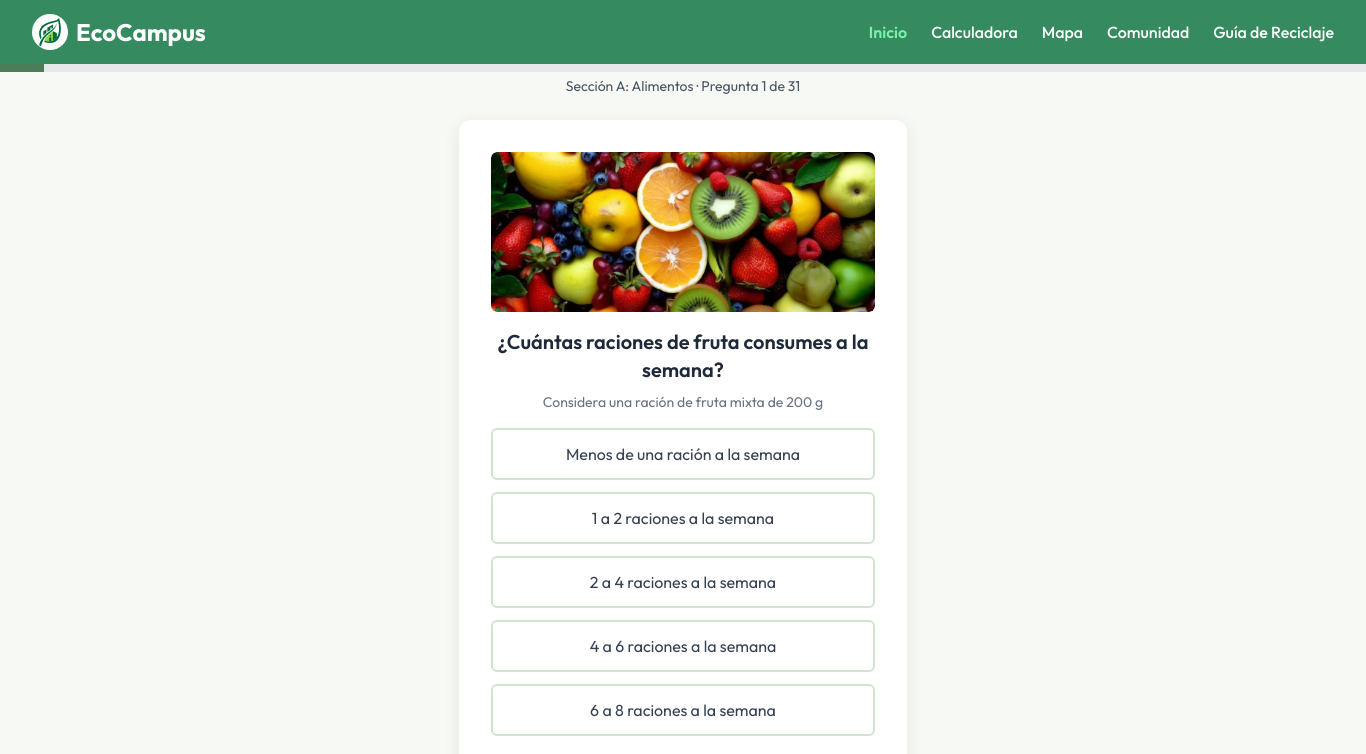
Test: Calculadora - persistencia en localStorage › modal de confirmacion de Borrar respuestas › Cancelar cierra sin borrar y devuelve el foco al disparador
Click the button "1 a 2 raciones a la semana": (683, 518) [491,492,875,544]
(page scrolled)
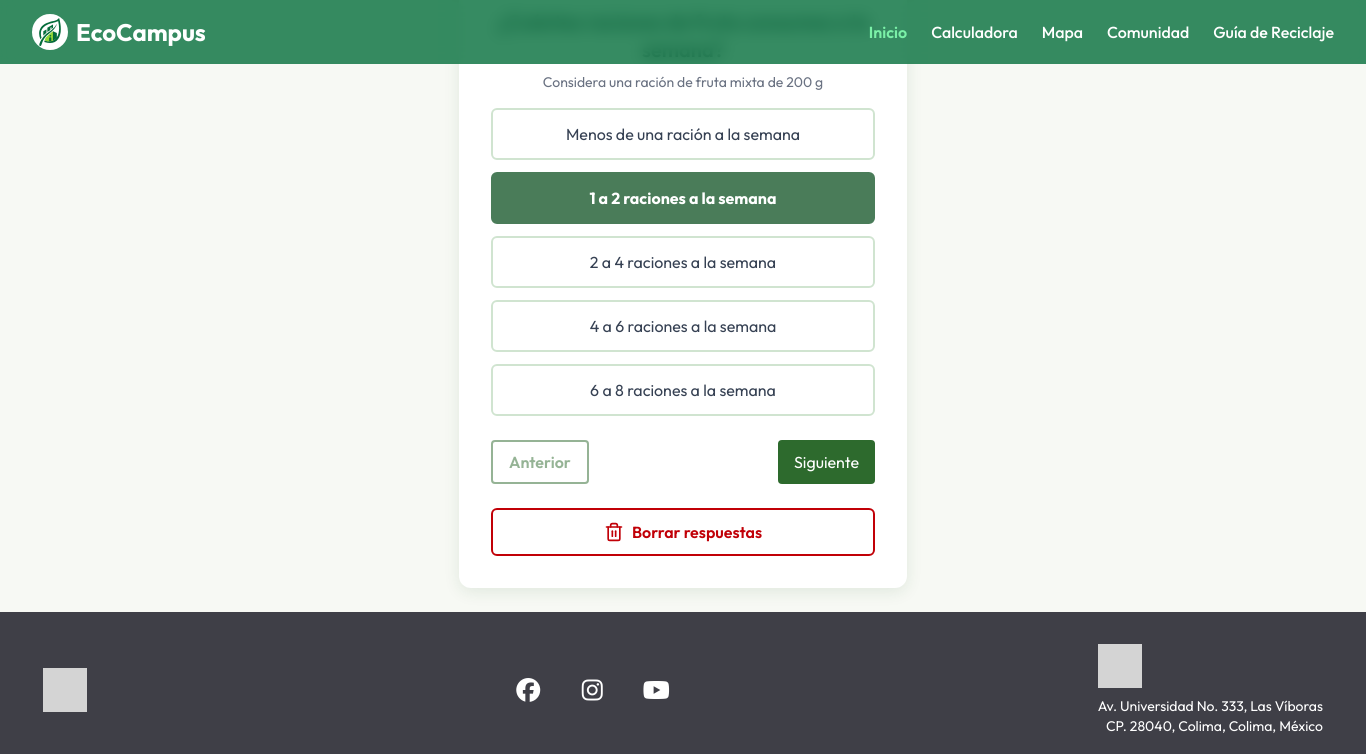
Click the button "Siguiente": (826, 462) [778,440,875,484]
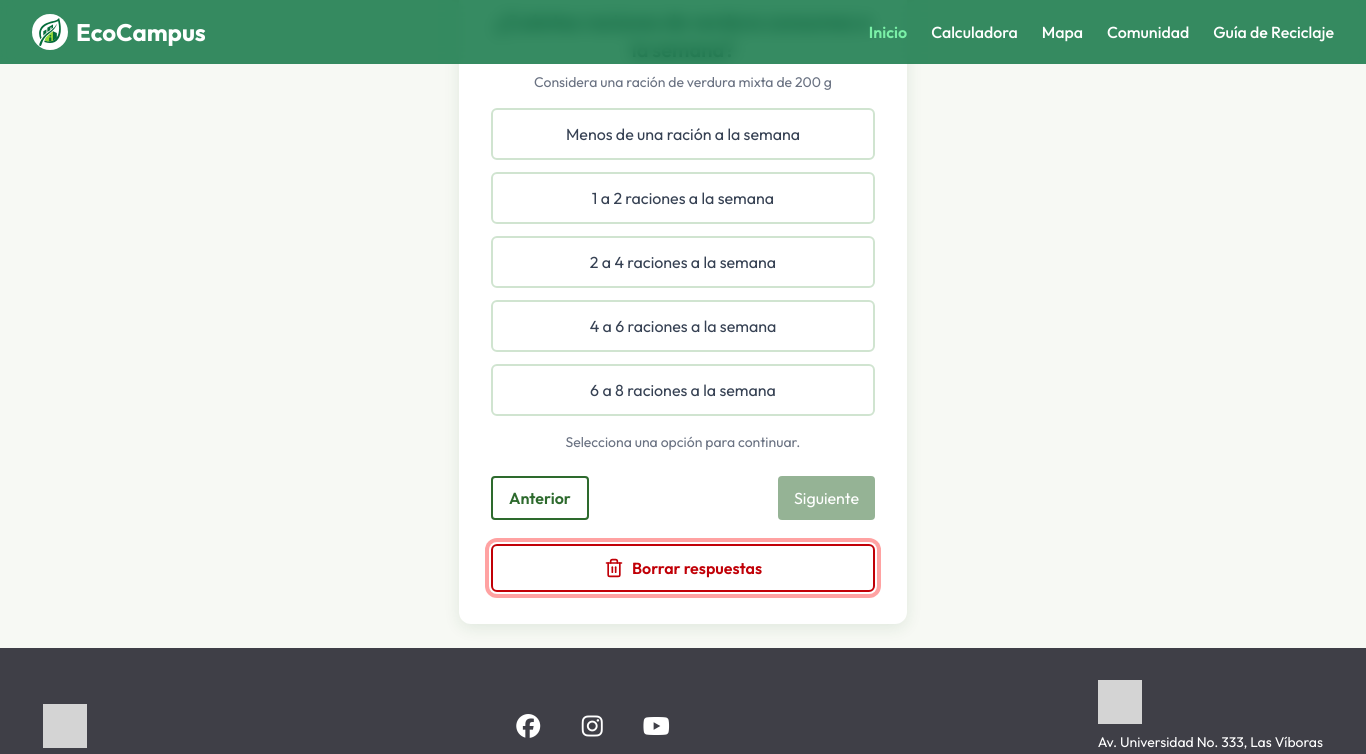
Click the button "Borrar respuestas": (683, 568) [491,544,875,592]
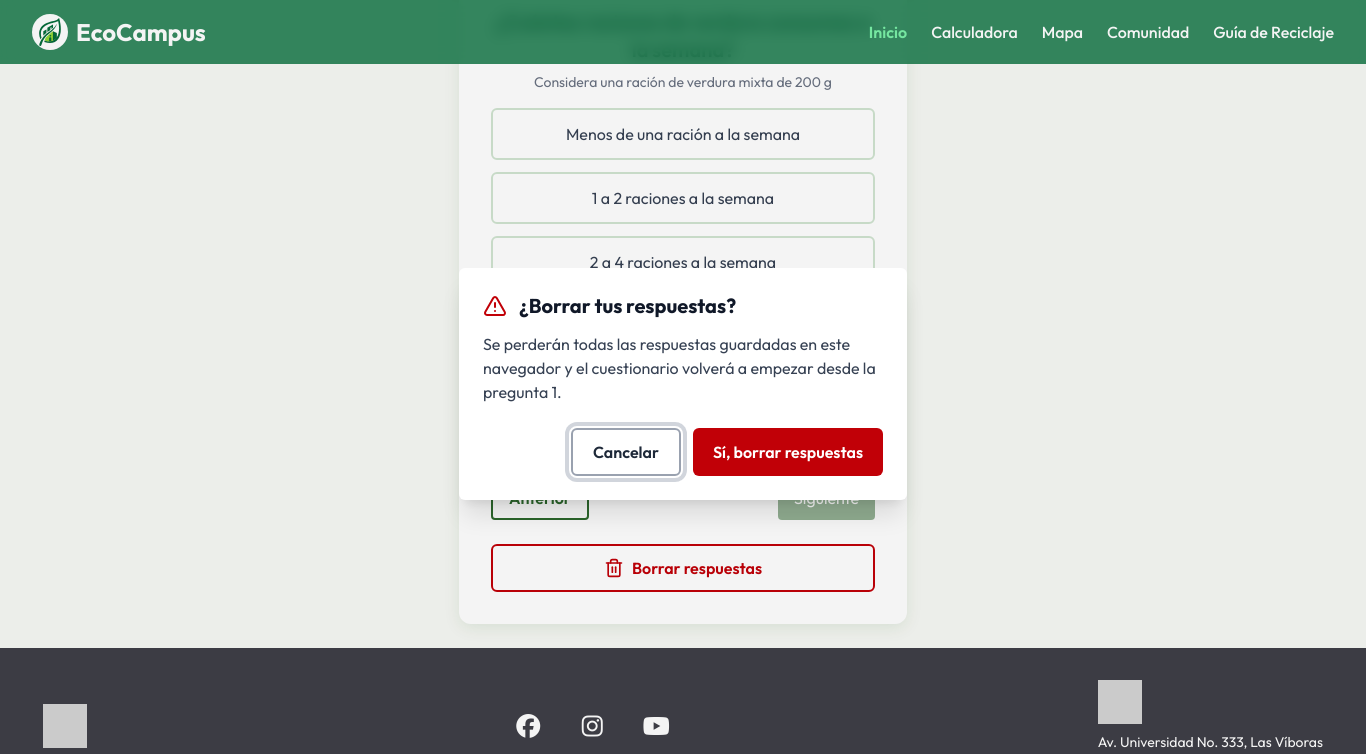
Click the button "Cancelar": (626, 452) [571,428,681,476]
(page scrolled)
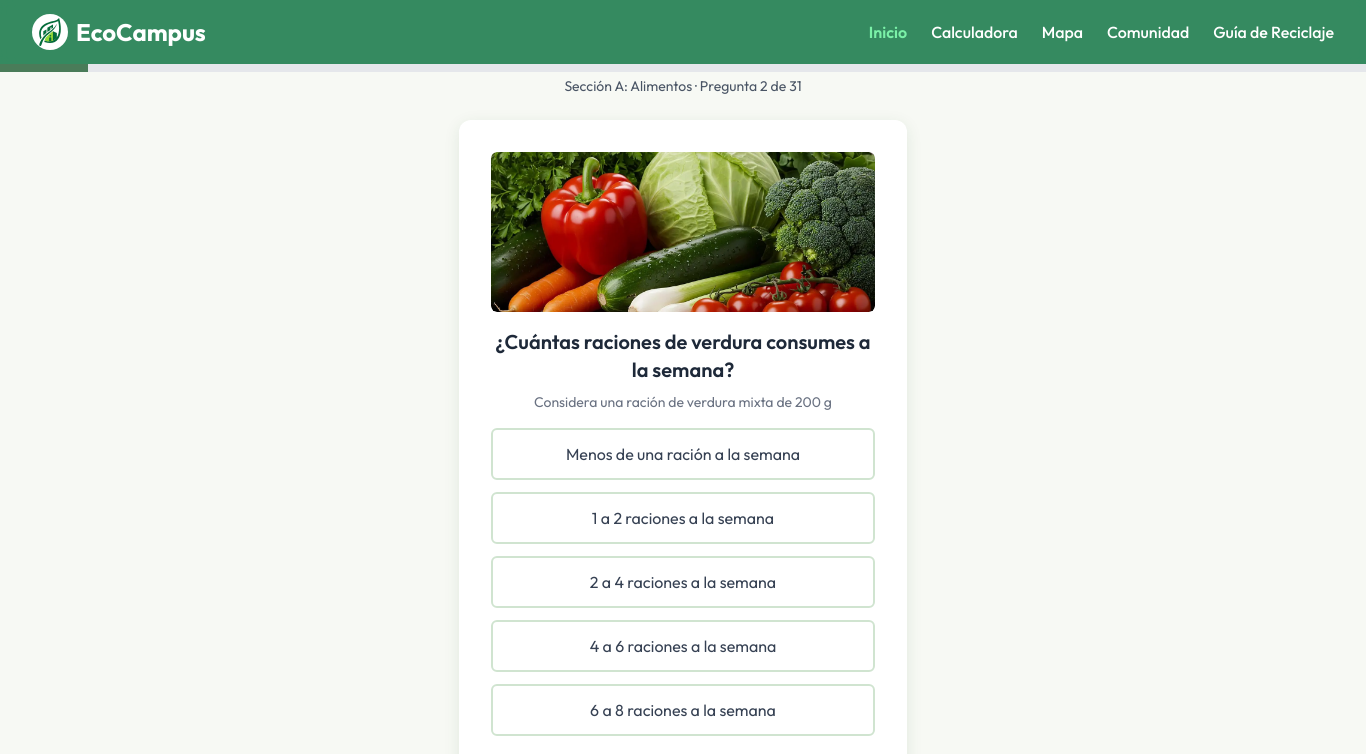
Check: the text "Sección A: Alimentos · Pregunta 2 de 31" is shown, box [564,77,802,95]
Check: the dialog is gone
